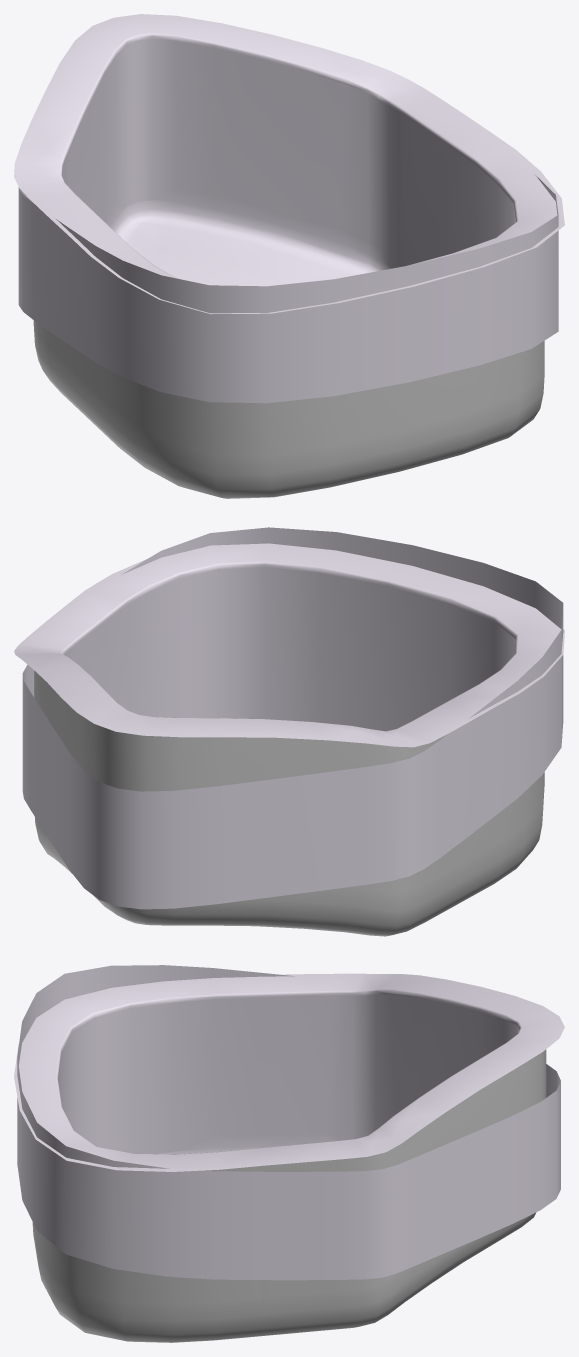
Rendered from dpad_up.obj.
The picture shows the model from 3 angles, top to bottom: view 1: azimuth 30°, elevation 25°; view 2: azimuth 150°, elevation 25°; view 3: azimuth 270°, elevation 25°; orthographic projection. The views are drawn at different scales.
Parts seen in each view (by area): view 1: dpad_up; view 2: dpad_up; view 3: dpad_up.
Part boxes in pixels (x1,y1,x2,y2): dpad_up: (14,14,564,498); dpad_up: (14,527,564,936); dpad_up: (14,965,564,1342).
Size of the model in its own units: 0.1272 by 0.0734 by 0.153.
